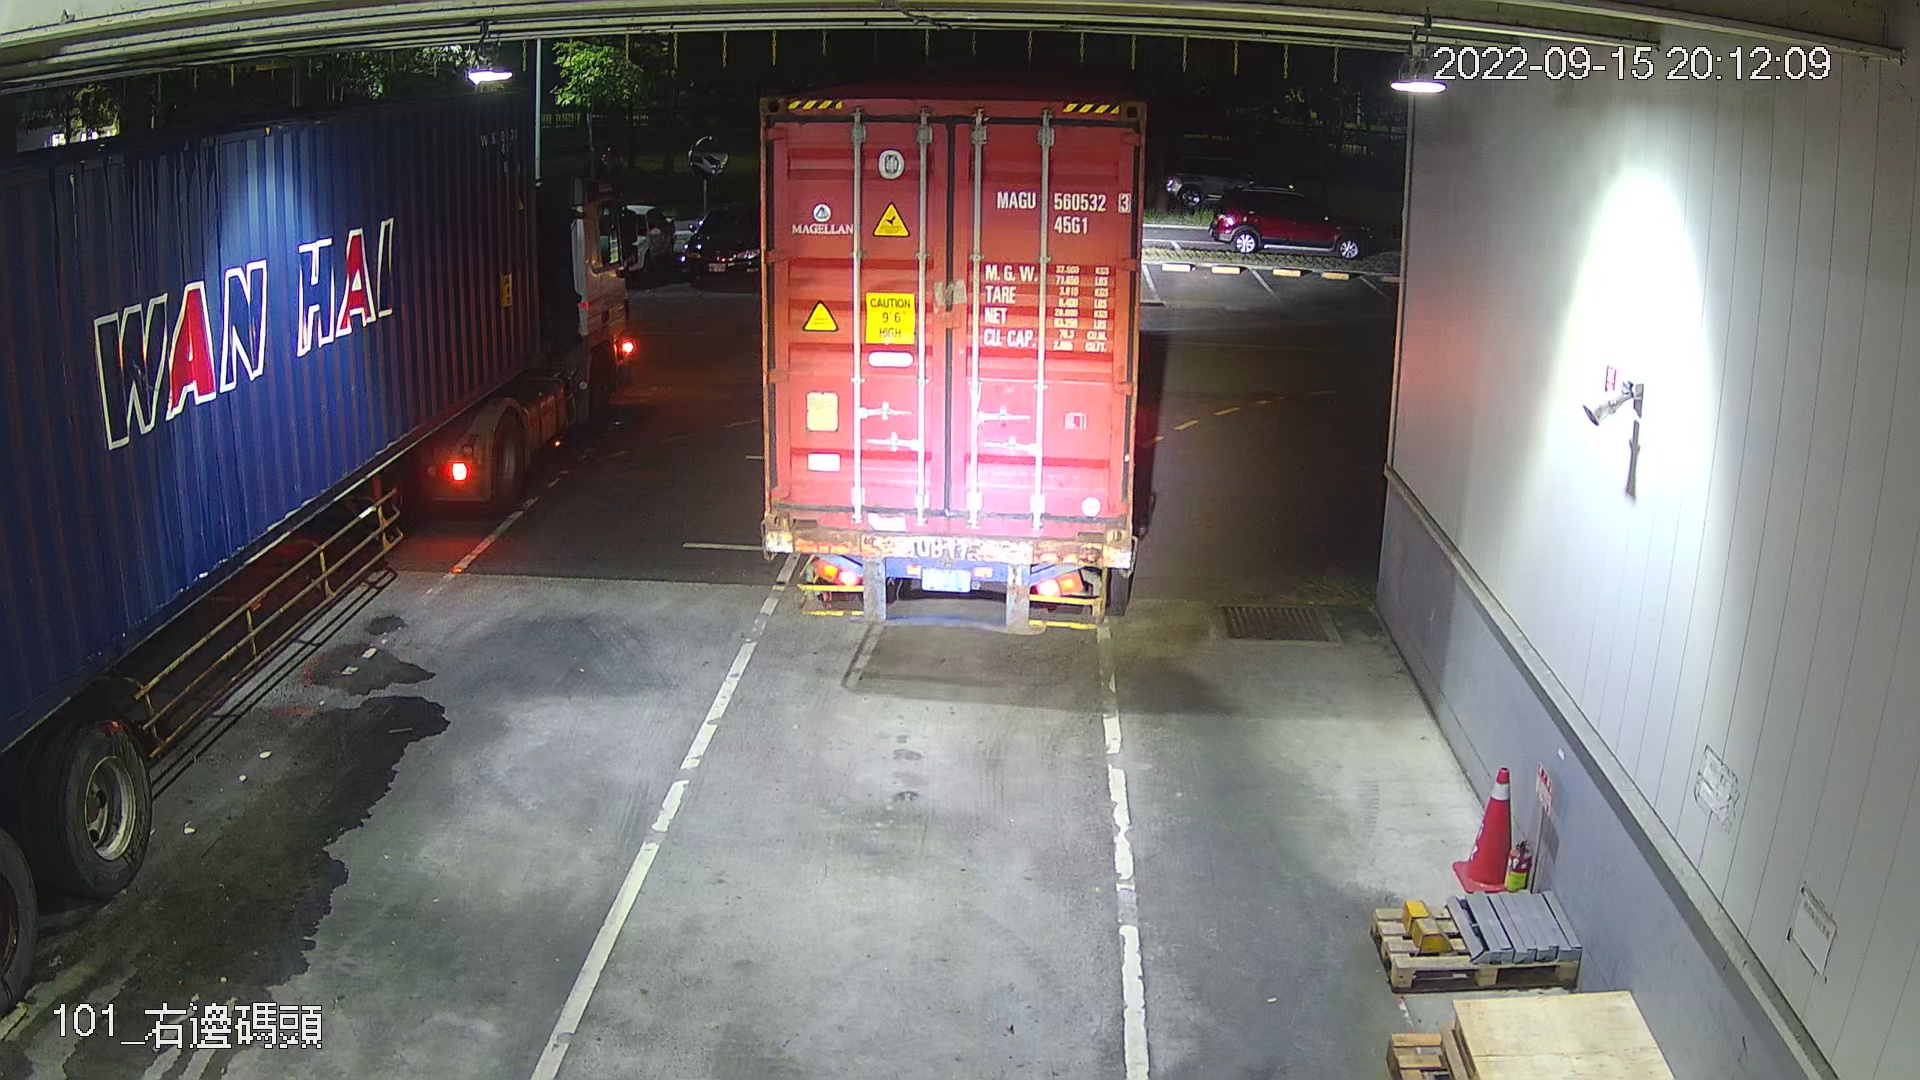container: (989, 182, 1137, 239)
